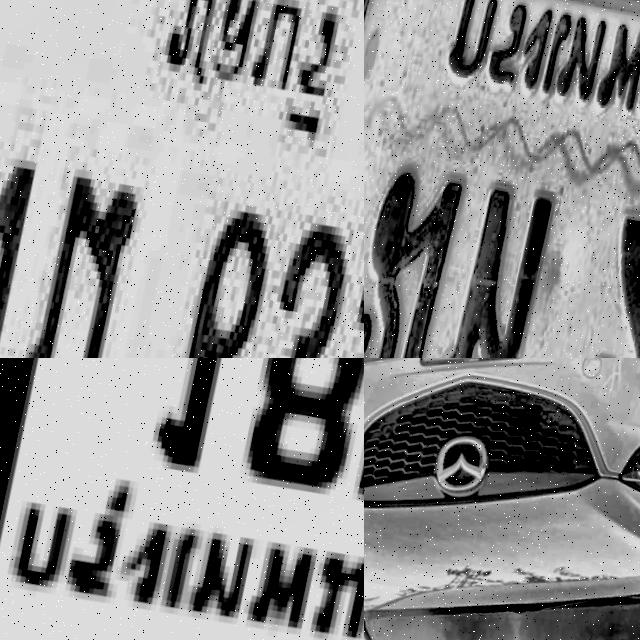license-plate: (0, 0, 364, 358), (0, 358, 364, 640), (364, 0, 640, 358), (409, 358, 538, 394)
